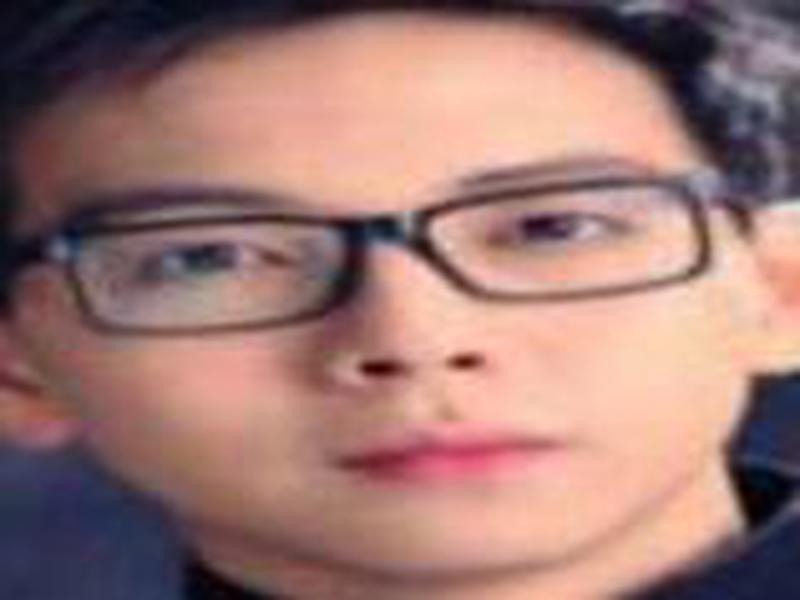without_mask: (42, 85, 757, 574)
